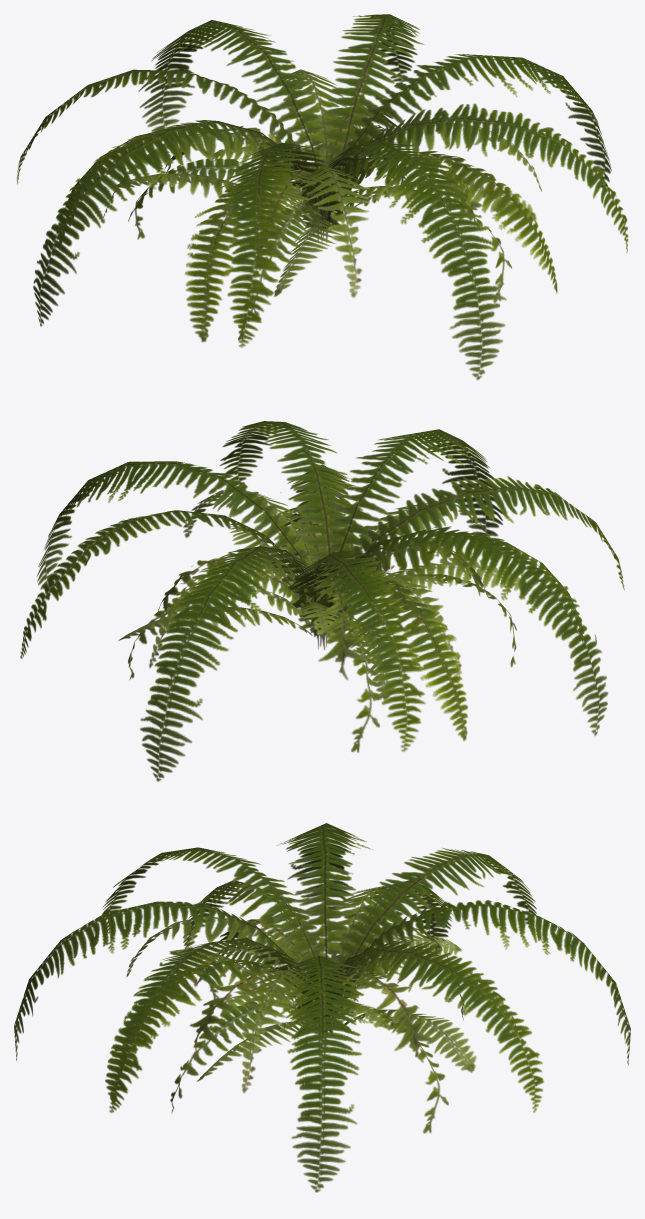
The model's file is pflanze.glb.
3 renders of one model, top to bottom at view 1: azimuth 30°, elevation 25°; view 2: azimuth 150°, elevation 25°; view 3: azimuth 270°, elevation 25°, orthographic. The views are drawn at different scales.
Parts seen in each view (by area): view 1: Leaf 010_Plant 1_0, Leaf 011_Plant 1_0, Leaf 2_Plant 1_0, Leaf 1_Plant 1_0, Leaf 014_Plant 1_0, Leaf 013_Plant 1_0, Leaf 009_Plant 1_0, Leaf 016_Plant 1_0, Leaf 015_Plant 1_0, Leaf 012_Plant 1_0, Leaf 019_Plant 1_0, Leaf 025_Plant 1_0 (+14 smaller); view 2: Leaf 1_Plant 1_0, Leaf 012_Plant 1_0, Leaf 011_Plant 1_0, Leaf 010_Plant 1_0, Leaf 009_Plant 1_0, Leaf 014_Plant 1_0, Leaf 2_Plant 1_0, Leaf 6_Plant 1_0, Leaf 013_Plant 1_0, Leaf 016_Plant 1_0, Leaf 021_Plant 1_0, Leaf 5_Plant 1_0 (+16 smaller); view 3: Leaf 009_Plant 1_0, Leaf 013_Plant 1_0, Leaf 012_Plant 1_0, Leaf 014_Plant 1_0, Leaf 010_Plant 1_0, Leaf 011_Plant 1_0, Leaf 1_Plant 1_0, Leaf 2_Plant 1_0, Leaf 015_Plant 1_0, Leaf 5_Plant 1_0, Leaf 016_Plant 1_0, Leaf 020_Plant 1_0 (+15 smaller).
Part boxes in pixels (bbox=[...]): Leaf 010_Plant 1_0: bbox=[312, 141, 506, 379]; Leaf 011_Plant 1_0: bbox=[33, 120, 322, 326]; Leaf 2_Plant 1_0: bbox=[221, 142, 326, 347]; Leaf 1_Plant 1_0: bbox=[138, 20, 325, 240]; Leaf 014_Plant 1_0: bbox=[322, 103, 628, 252]; Leaf 013_Plant 1_0: bbox=[319, 14, 424, 225]; Leaf 009_Plant 1_0: bbox=[322, 54, 611, 237]; Leaf 016_Plant 1_0: bbox=[185, 167, 324, 342]; Leaf 015_Plant 1_0: bbox=[330, 151, 557, 293]; Leaf 012_Plant 1_0: bbox=[16, 69, 309, 184]; Leaf 019_Plant 1_0: bbox=[297, 165, 369, 297]; Leaf 025_Plant 1_0: bbox=[238, 202, 322, 340]; Leaf 1_Plant 1_0: bbox=[140, 546, 326, 781]; Leaf 012_Plant 1_0: bbox=[291, 550, 425, 751]; Leaf 011_Plant 1_0: bbox=[320, 526, 608, 735]; Leaf 010_Plant 1_0: bbox=[320, 429, 503, 646]; Leaf 009_Plant 1_0: bbox=[36, 461, 318, 648]; Leaf 014_Plant 1_0: bbox=[219, 421, 349, 573]; Leaf 2_Plant 1_0: bbox=[324, 476, 624, 639]; Leaf 6_Plant 1_0: bbox=[323, 573, 467, 741]; Leaf 013_Plant 1_0: bbox=[20, 510, 305, 658]; Leaf 016_Plant 1_0: bbox=[364, 532, 583, 642]; Leaf 021_Plant 1_0: bbox=[298, 577, 368, 680]; Leaf 5_Plant 1_0: bbox=[183, 490, 316, 586]; Leaf 009_Plant 1_0: bbox=[271, 955, 368, 1192]; Leaf 013_Plant 1_0: bbox=[314, 939, 543, 1112]; Leaf 012_Plant 1_0: bbox=[326, 848, 536, 1032]; Leaf 014_Plant 1_0: bbox=[108, 938, 314, 1113]; Leaf 010_Plant 1_0: bbox=[14, 901, 313, 1060]; Leaf 011_Plant 1_0: bbox=[277, 823, 373, 1041]; Leaf 1_Plant 1_0: bbox=[326, 900, 630, 1065]; Leaf 2_Plant 1_0: bbox=[101, 847, 325, 975]; Leaf 015_Plant 1_0: bbox=[105, 959, 319, 1102]; Leaf 5_Plant 1_0: bbox=[240, 969, 318, 1093]; Leaf 016_Plant 1_0: bbox=[183, 880, 325, 966]; Leaf 020_Plant 1_0: bbox=[316, 972, 435, 1062].
Size of the model in its own units: 104 by 32.29 by 104.
Materials: 1 (1 with a texture image).
